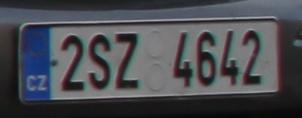2: (61, 34, 84, 90), (242, 29, 262, 85)
4: (173, 32, 193, 87), (220, 30, 238, 84)
6: (197, 31, 216, 85)
S: (89, 34, 110, 89)
Z: (115, 33, 138, 89)
